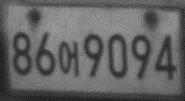0: (107, 33, 128, 78)
4: (155, 34, 177, 81)
6: (33, 31, 56, 75)
8: (12, 31, 32, 76)
9: (130, 34, 152, 80), (84, 33, 105, 79)
어: (58, 40, 81, 77)
